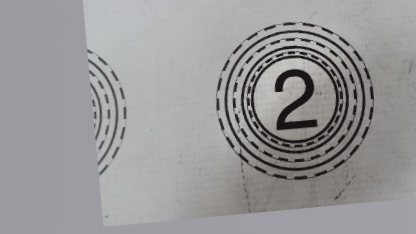2r: (206, 13, 380, 187)
